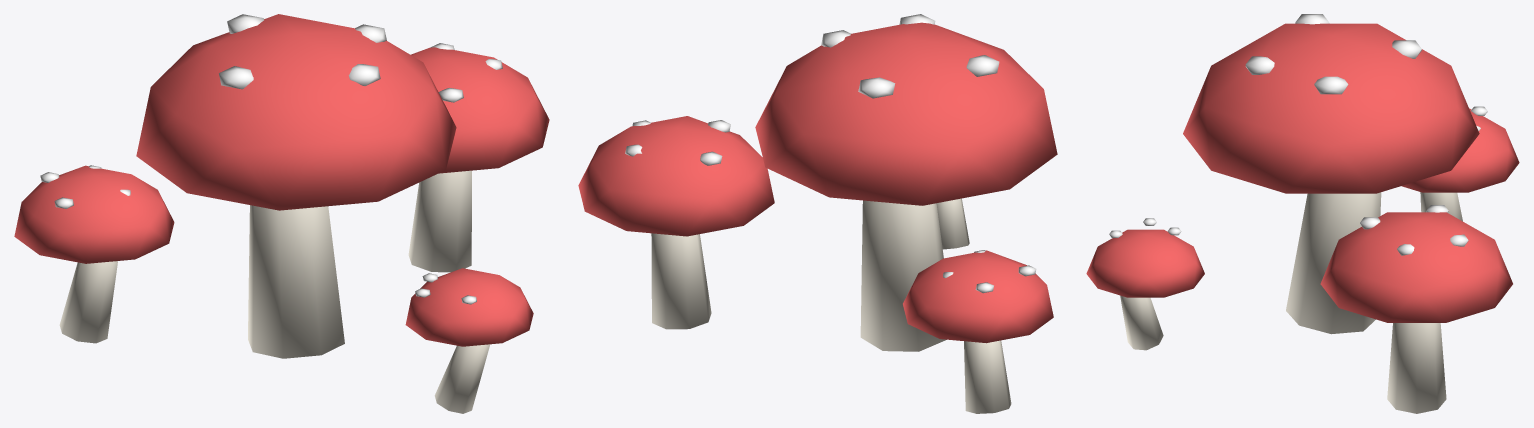
File: mushroom_cluster.fbx
3 renders of one model, left to right at view 1: azimuth 30°, elevation 25°; view 2: azimuth 150°, elevation 25°; view 3: azimuth 270°, elevation 25°, orthographic. The views are drawn at different scales.
Parts seen in each view (by area): view 1: Cap_mushroom_cluster, Stem_mushroom_cluster, Spot_mushroom_cluster; view 2: Cap_mushroom_cluster, Stem_mushroom_cluster, Spot_mushroom_cluster; view 3: Cap_mushroom_cluster, Stem_mushroom_cluster, Spot_mushroom_cluster.
Part boxes in pixels (x1,y1,x2,y2): Cap_mushroom_cluster: [14, 14, 549, 346]; Stem_mushroom_cluster: [59, 170, 490, 413]; Spot_mushroom_cluster: [40, 14, 502, 304]; Cap_mushroom_cluster: [578, 22, 1057, 343]; Stem_mushroom_cluster: [651, 198, 1011, 413]; Spot_mushroom_cluster: [625, 14, 1036, 293]; Cap_mushroom_cluster: [1086, 23, 1519, 322]; Stem_mushroom_cluster: [1120, 192, 1462, 413]; Spot_mushroom_cluster: [1109, 14, 1487, 255].
Bounding box in the file's own units: 1.8 × 1.1 × 1.52.
